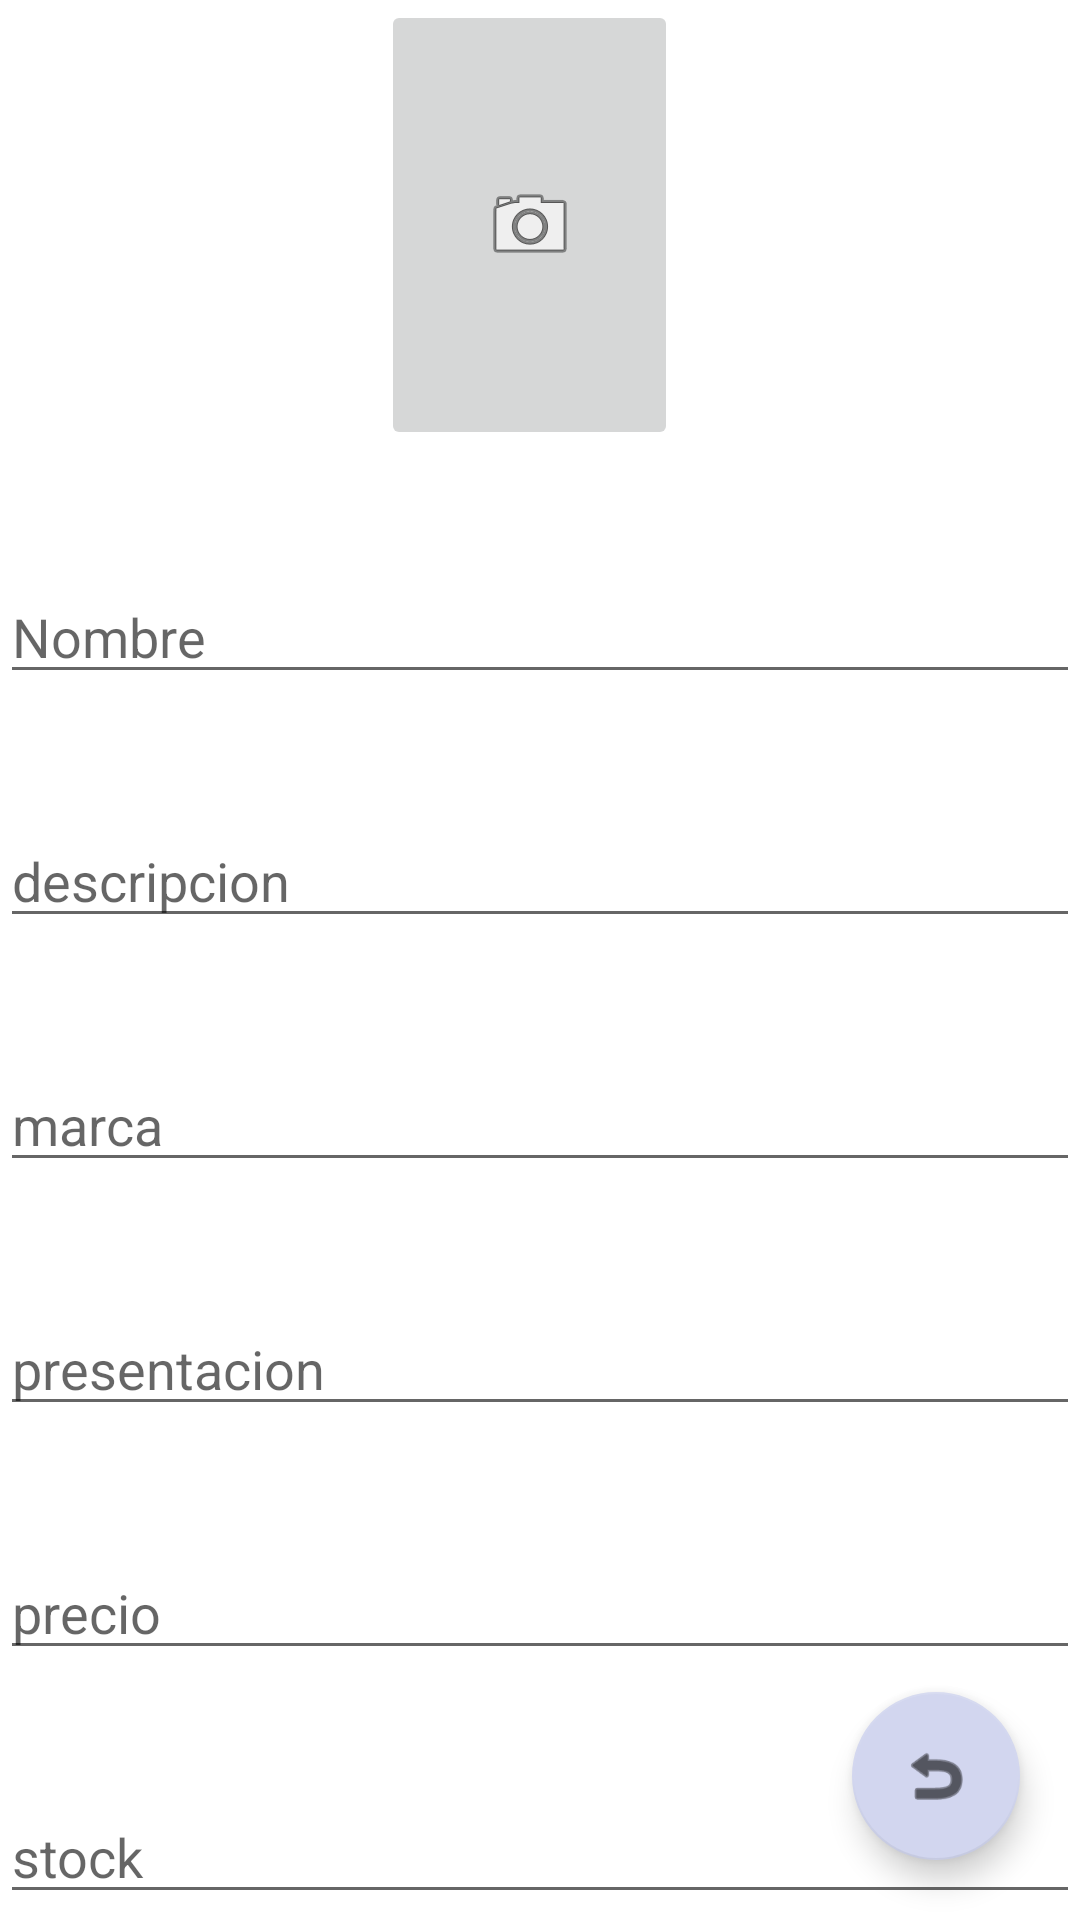

Screen size 1080px×1920px. Icon name, then its box in pixels as detection(x1, y1, x2, y2):
revert: detection(852, 1692, 1020, 1860)
